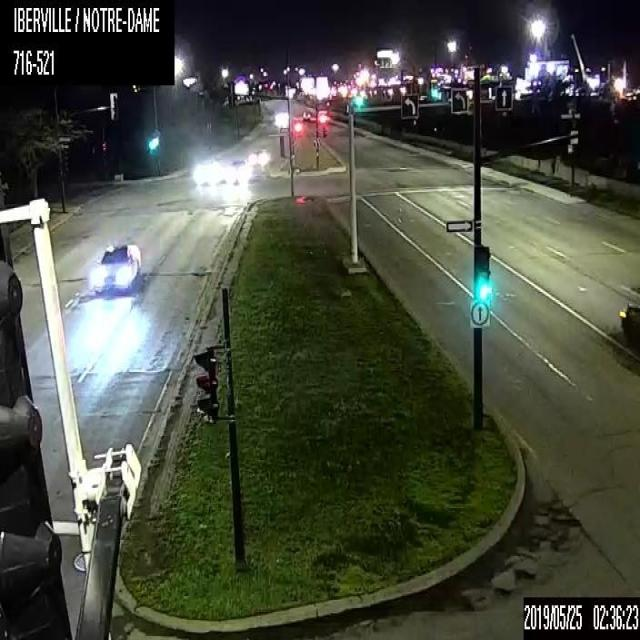vehicle: (87, 236, 142, 293), (619, 301, 639, 344), (225, 159, 249, 183), (248, 148, 270, 164), (302, 110, 310, 119), (310, 114, 316, 121)
